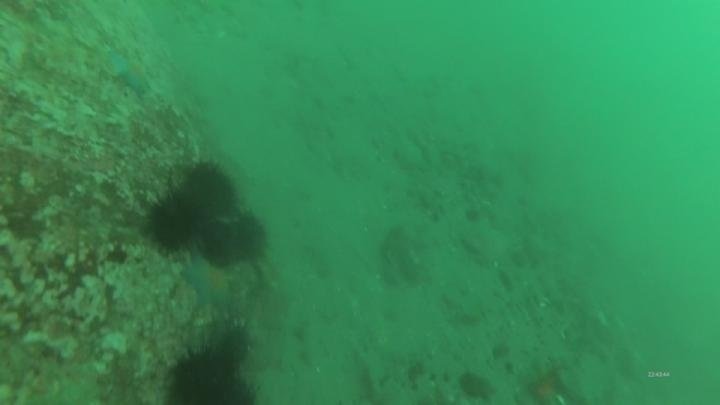echinus: (162, 342, 249, 404), (141, 187, 205, 255), (180, 158, 242, 221), (207, 207, 270, 266), (209, 319, 256, 368), (195, 216, 237, 265), (455, 369, 496, 403)
starfish: (179, 251, 237, 312), (104, 48, 155, 98), (522, 364, 570, 405)
